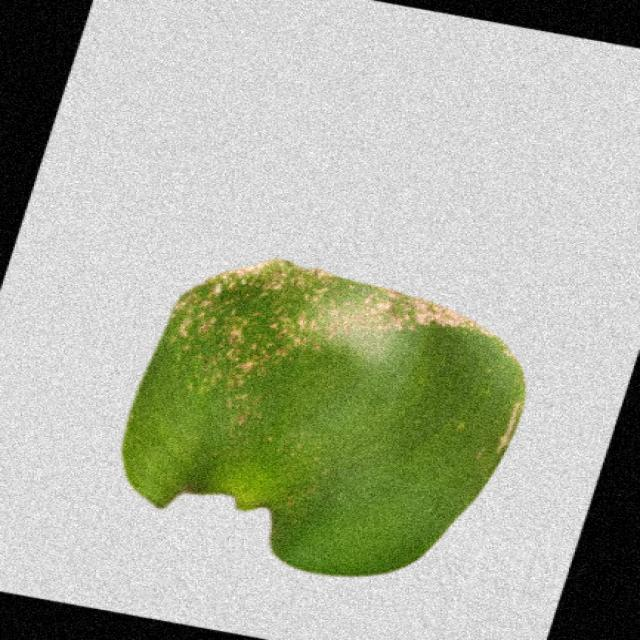daun berpenyakit bercak: (123, 260, 523, 575)
